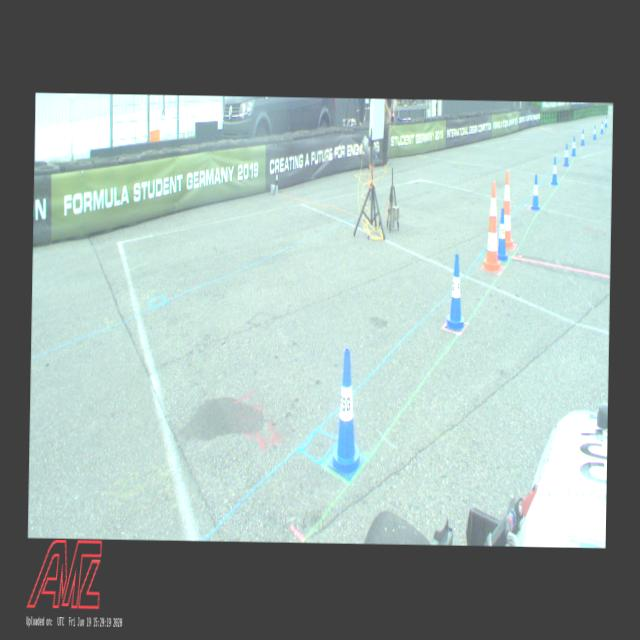blue_cone: (328, 348, 366, 480), (444, 253, 466, 330), (497, 208, 509, 261), (530, 173, 540, 210), (550, 156, 558, 185), (563, 143, 569, 166), (571, 136, 576, 156), (580, 128, 584, 145), (592, 125, 596, 140), (600, 121, 603, 134), (604, 115, 607, 126)
large_orange_cone: (482, 180, 502, 272), (503, 170, 515, 248)
